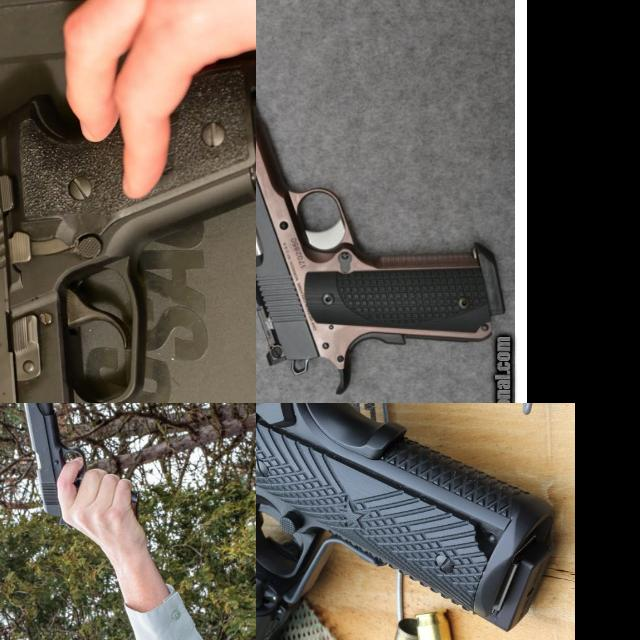handgun: (256, 12, 510, 397), (0, 43, 256, 403), (256, 403, 561, 640), (17, 403, 89, 518)
